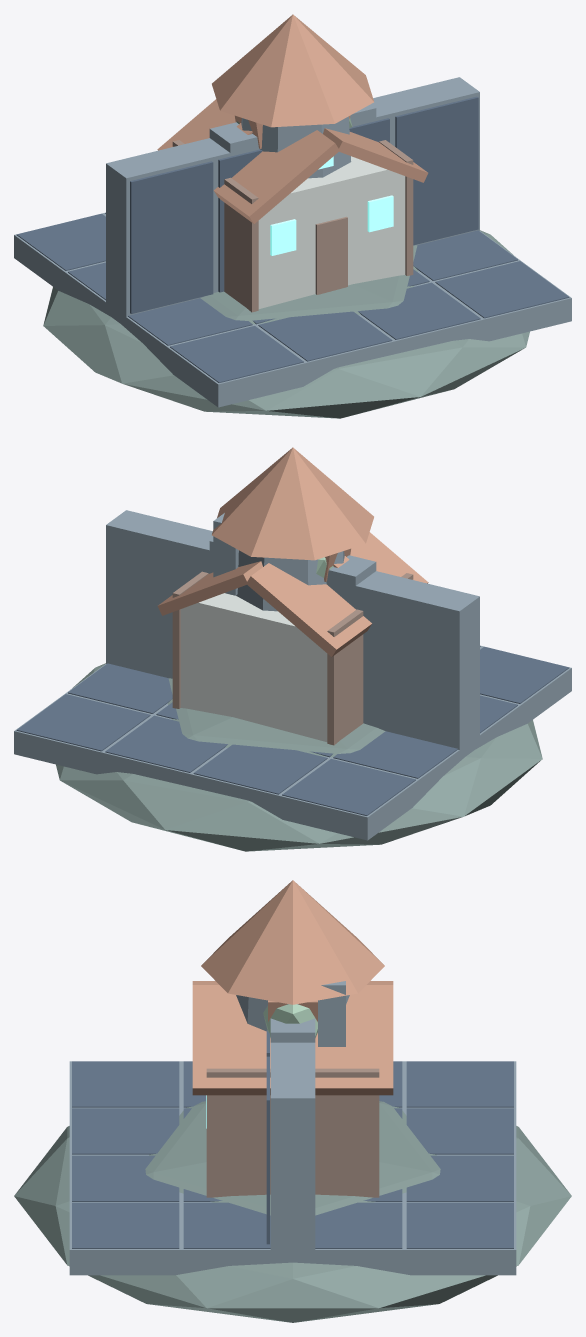
Rendered from eventyr.glb.
3 views of the same model, one above another, from view 1: azimuth 30°, elevation 25°; view 2: azimuth 150°, elevation 25°; view 3: azimuth 270°, elevation 25° (orthographic). The views are drawn at different scales.
Visible parts, largest first — view 1: gulvmodul_mesh, vægmodul_mesh, hus_mesh, terrænmodul_mesh, tårn_mesh, ruinbue_mesh; view 2: gulvmodul_mesh, vægmodul_mesh, hus_mesh, terrænmodul_mesh, tårn_mesh, ruinbue_mesh; view 3: gulvmodul_mesh, terrænmodul_mesh, hus_mesh, tårn_mesh, vægmodul_mesh, ruinbue_mesh, birk_mesh.
Part boxes in pixels (<box>): gulvmodul_mesh: <box>14,212,571,407</box>; vægmodul_mesh: <box>106,77,479,316</box>; hus_mesh: <box>157,99,428,312</box>; terrænmodul_mesh: <box>43,230,529,418</box>; tårn_mesh: <box>212,14,373,178</box>; ruinbue_mesh: <box>209,104,376,156</box>; gulvmodul_mesh: <box>14,645,571,840</box>; vægmodul_mesh: <box>106,510,479,749</box>; hus_mesh: <box>157,513,428,745</box>; terrænmodul_mesh: <box>56,663,542,851</box>; tårn_mesh: <box>212,447,373,611</box>; ruinbue_mesh: <box>209,539,376,608</box>; gulvmodul_mesh: <box>69,1061,516,1275</box>; terrænmodul_mesh: <box>14,1101,571,1322</box>; hus_mesh: <box>192,981,393,1197</box>; tårn_mesh: <box>201,880,384,1031</box>; vægmodul_mesh: <box>266,1030,315,1249</box>; ruinbue_mesh: <box>268,1000,317,1042</box>; birk_mesh: <box>263,1004,317,1037</box>.
Size of the model in its own units: 9.51 by 7.25 by 10.
